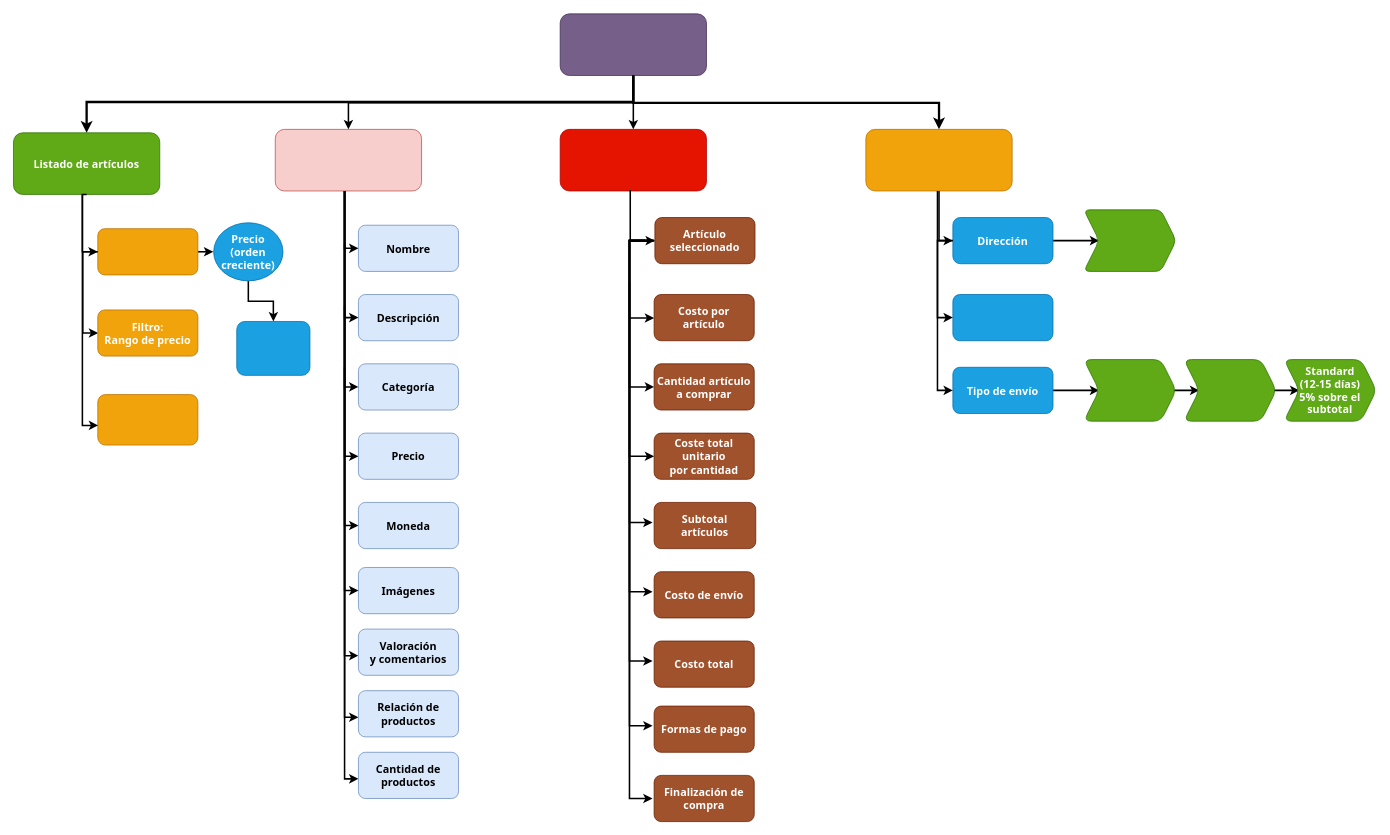
Image size: 1390x835. Some labels were removed from this diagram. The shapes that lost their labels are listed below. From the top down, each one's centre as x and y in pixels, then its label:
At (x=632, y=44): "eMercado".
At (x=348, y=160): "Artículo".
At (x=632, y=160): "Proceso de compra (carrito de compras)".
At (x=938, y=160): "Método de envío".
At (x=147, y=251): "Artículos en venta".
At (x=1129, y=240): "Calle, número, esquina".
At (x=1002, y=317): "País".
At (x=273, y=348): "Relevancia (orden decreciente)".
At (x=1129, y=390): "Premium (2-5 días) 15% sobre el subtotal".
At (x=1229, y=390): "Express (5-8 días) 7% sobre el subtotal".
At (x=147, y=419): "Información completa al seleccionar artículo".
